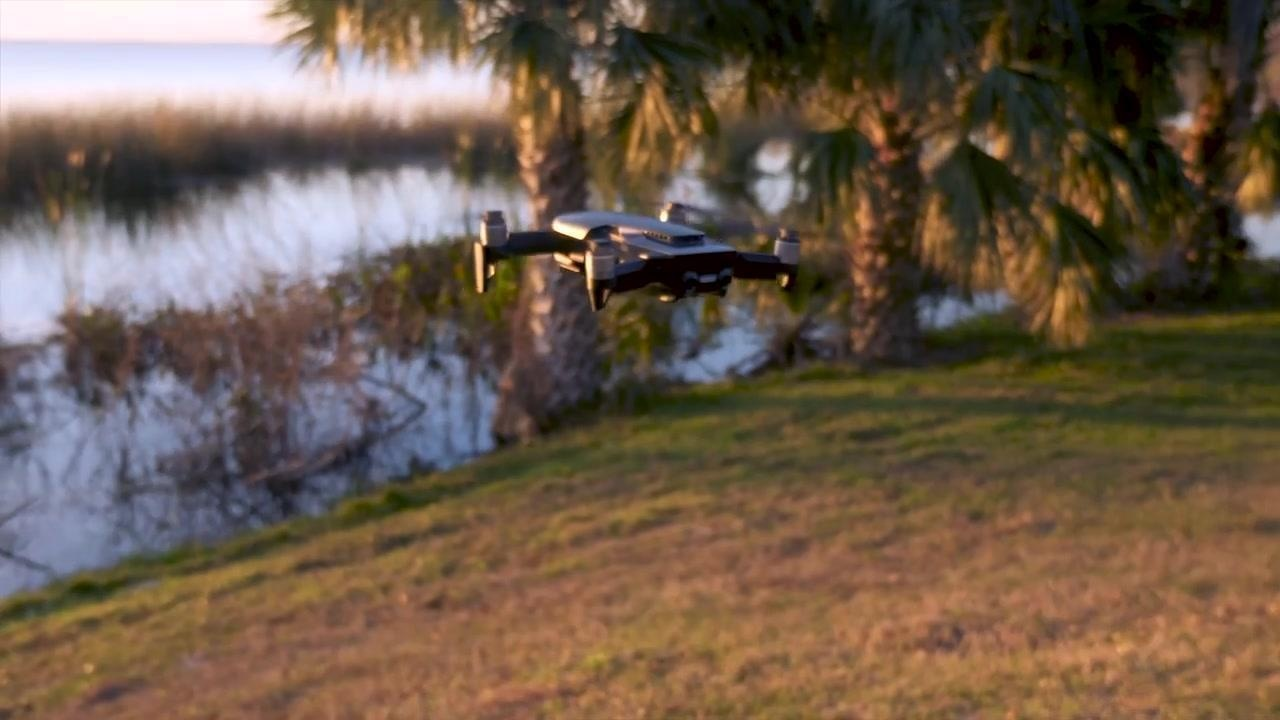UAV: (465, 201, 814, 314)
